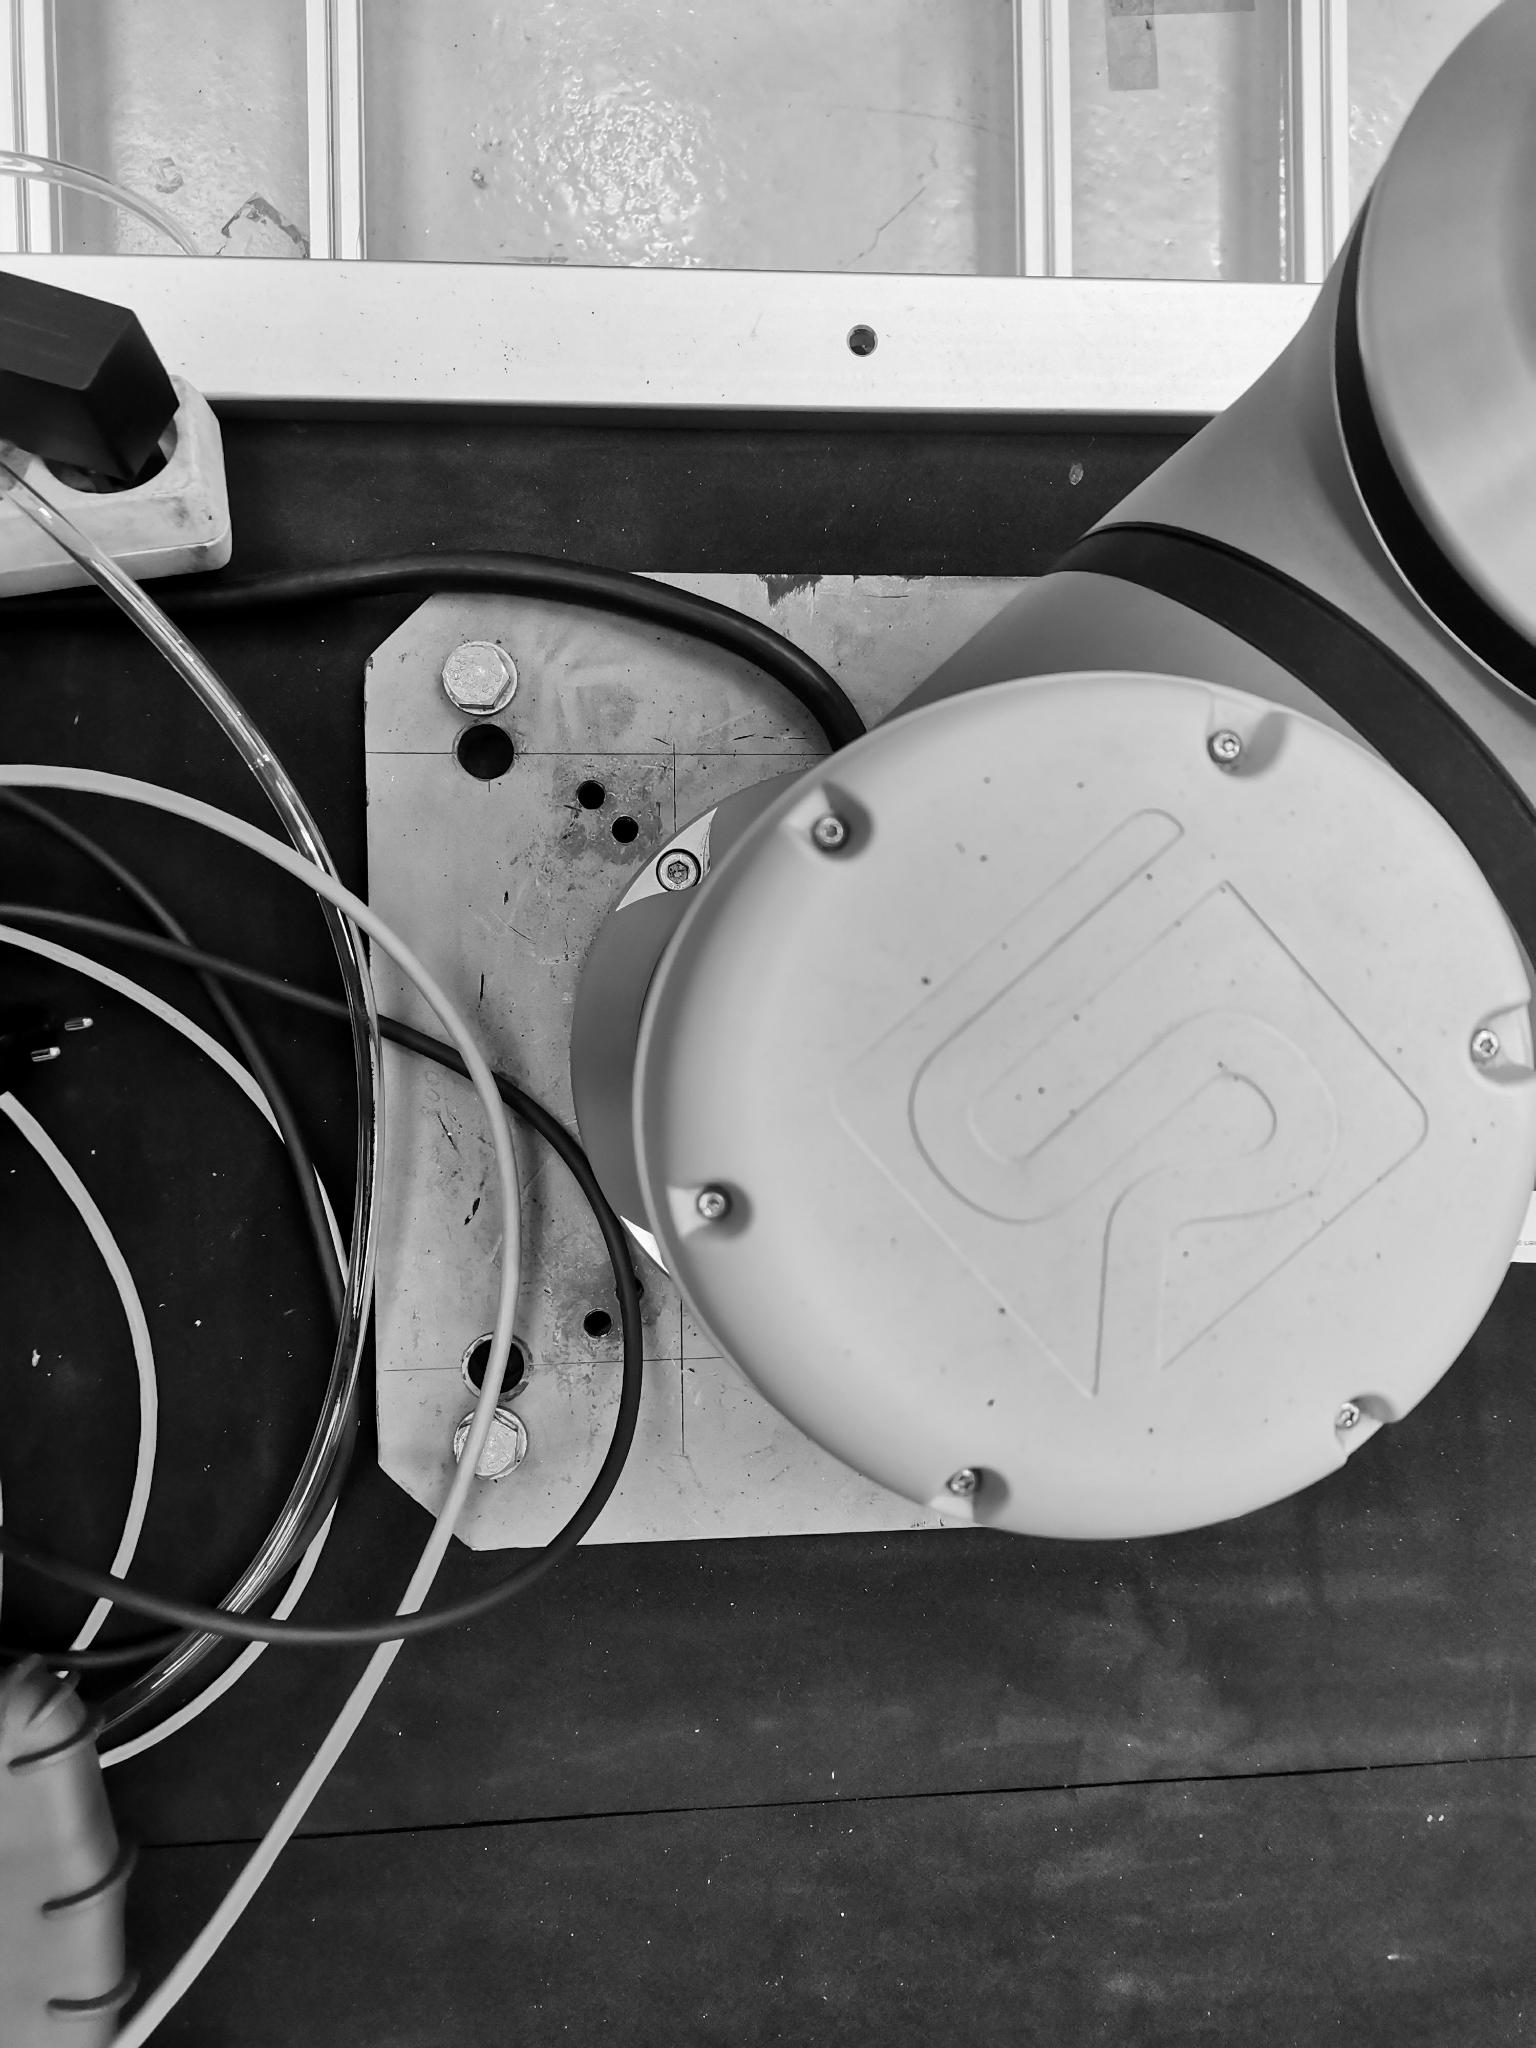screw: (436, 637, 521, 718), (653, 850, 705, 893)
